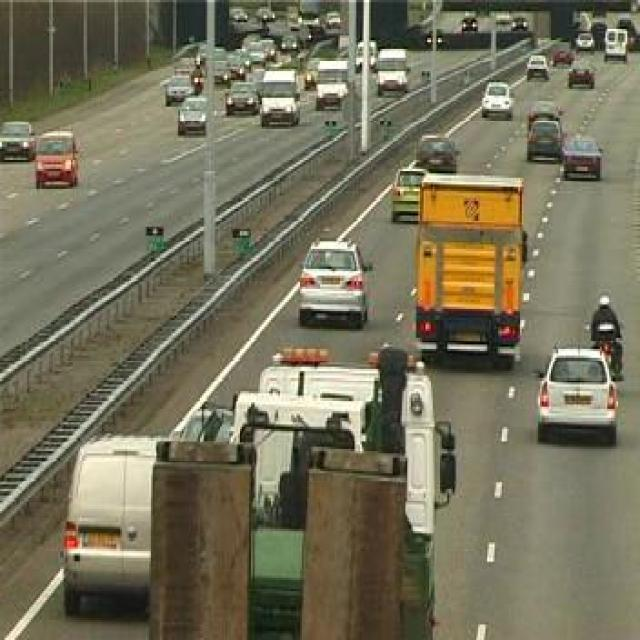other: (402, 159, 538, 346), (255, 46, 415, 110), (26, 132, 93, 186), (582, 282, 626, 354), (270, 333, 334, 374)
